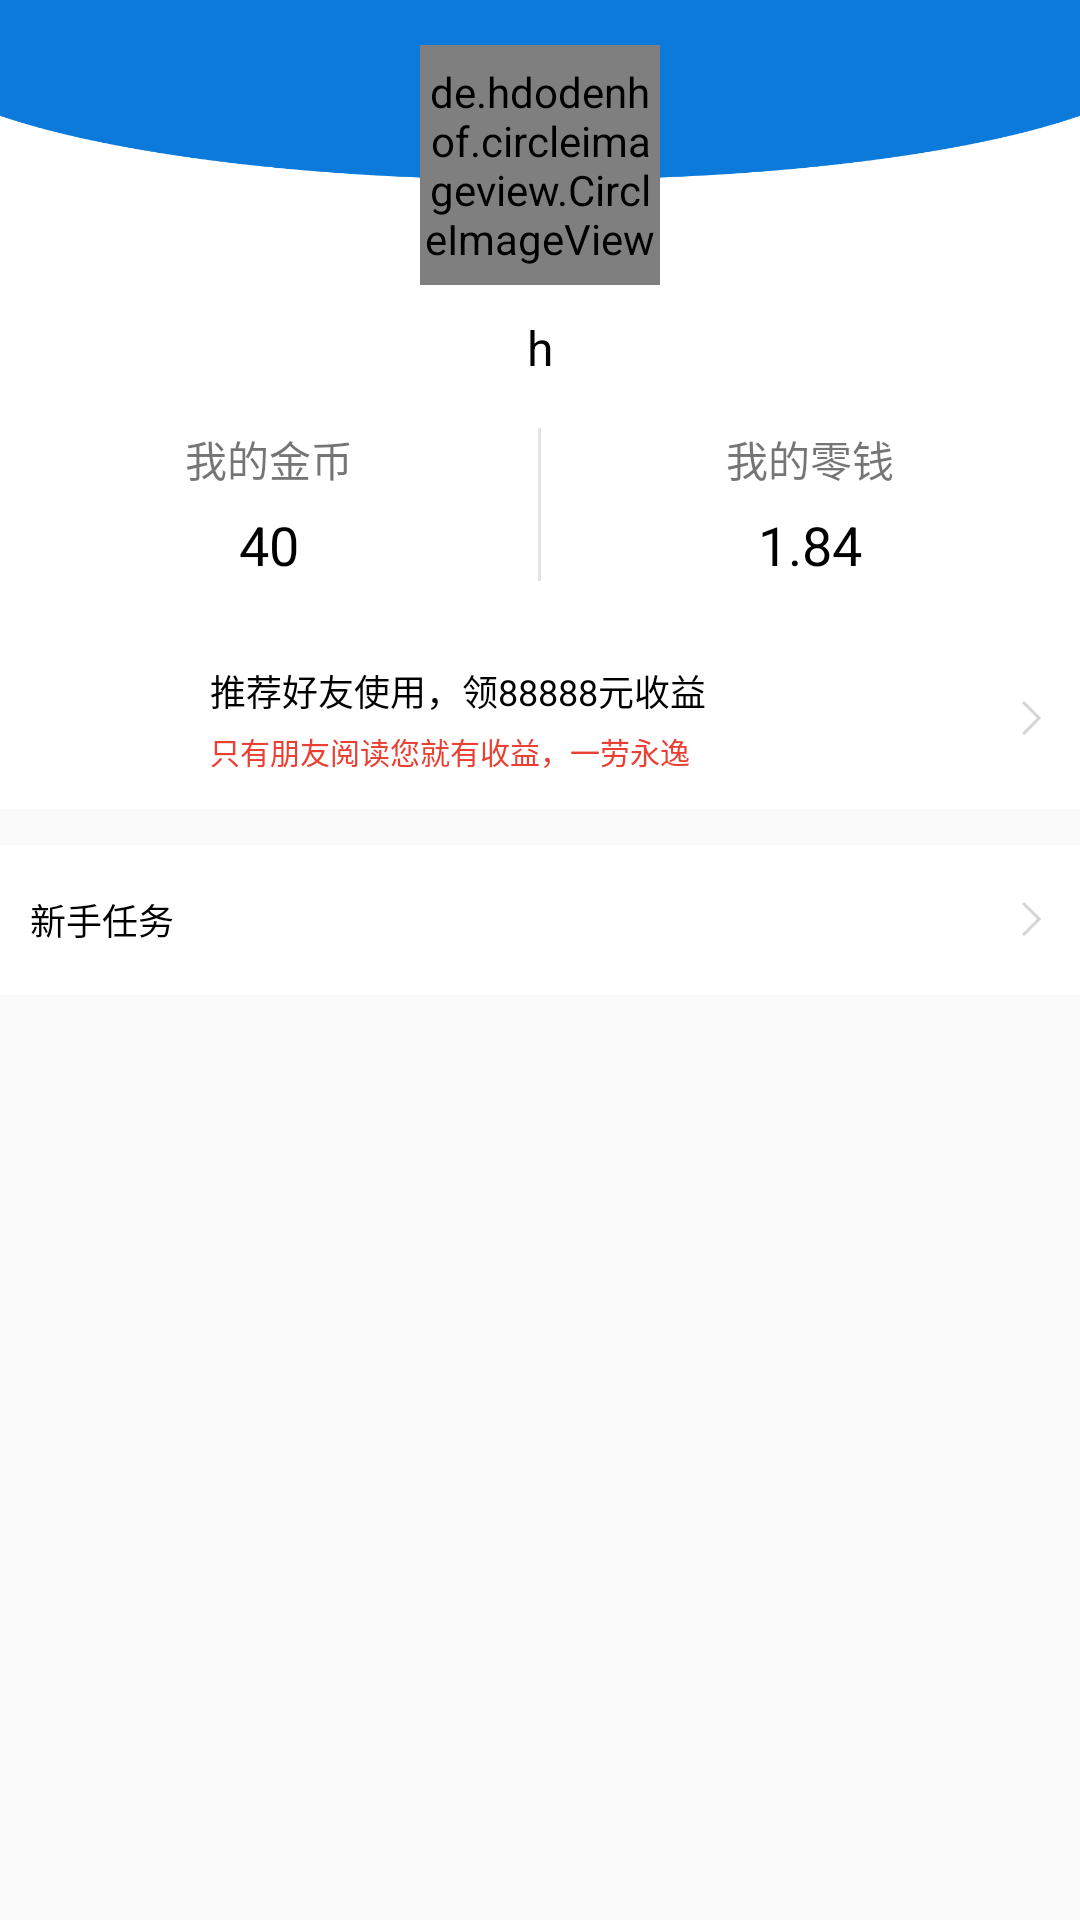

Icons on this 1080×1920 Android screen, each with the point to tap as point (x, y):
arrow right: point (1032, 718), point (1032, 919)
